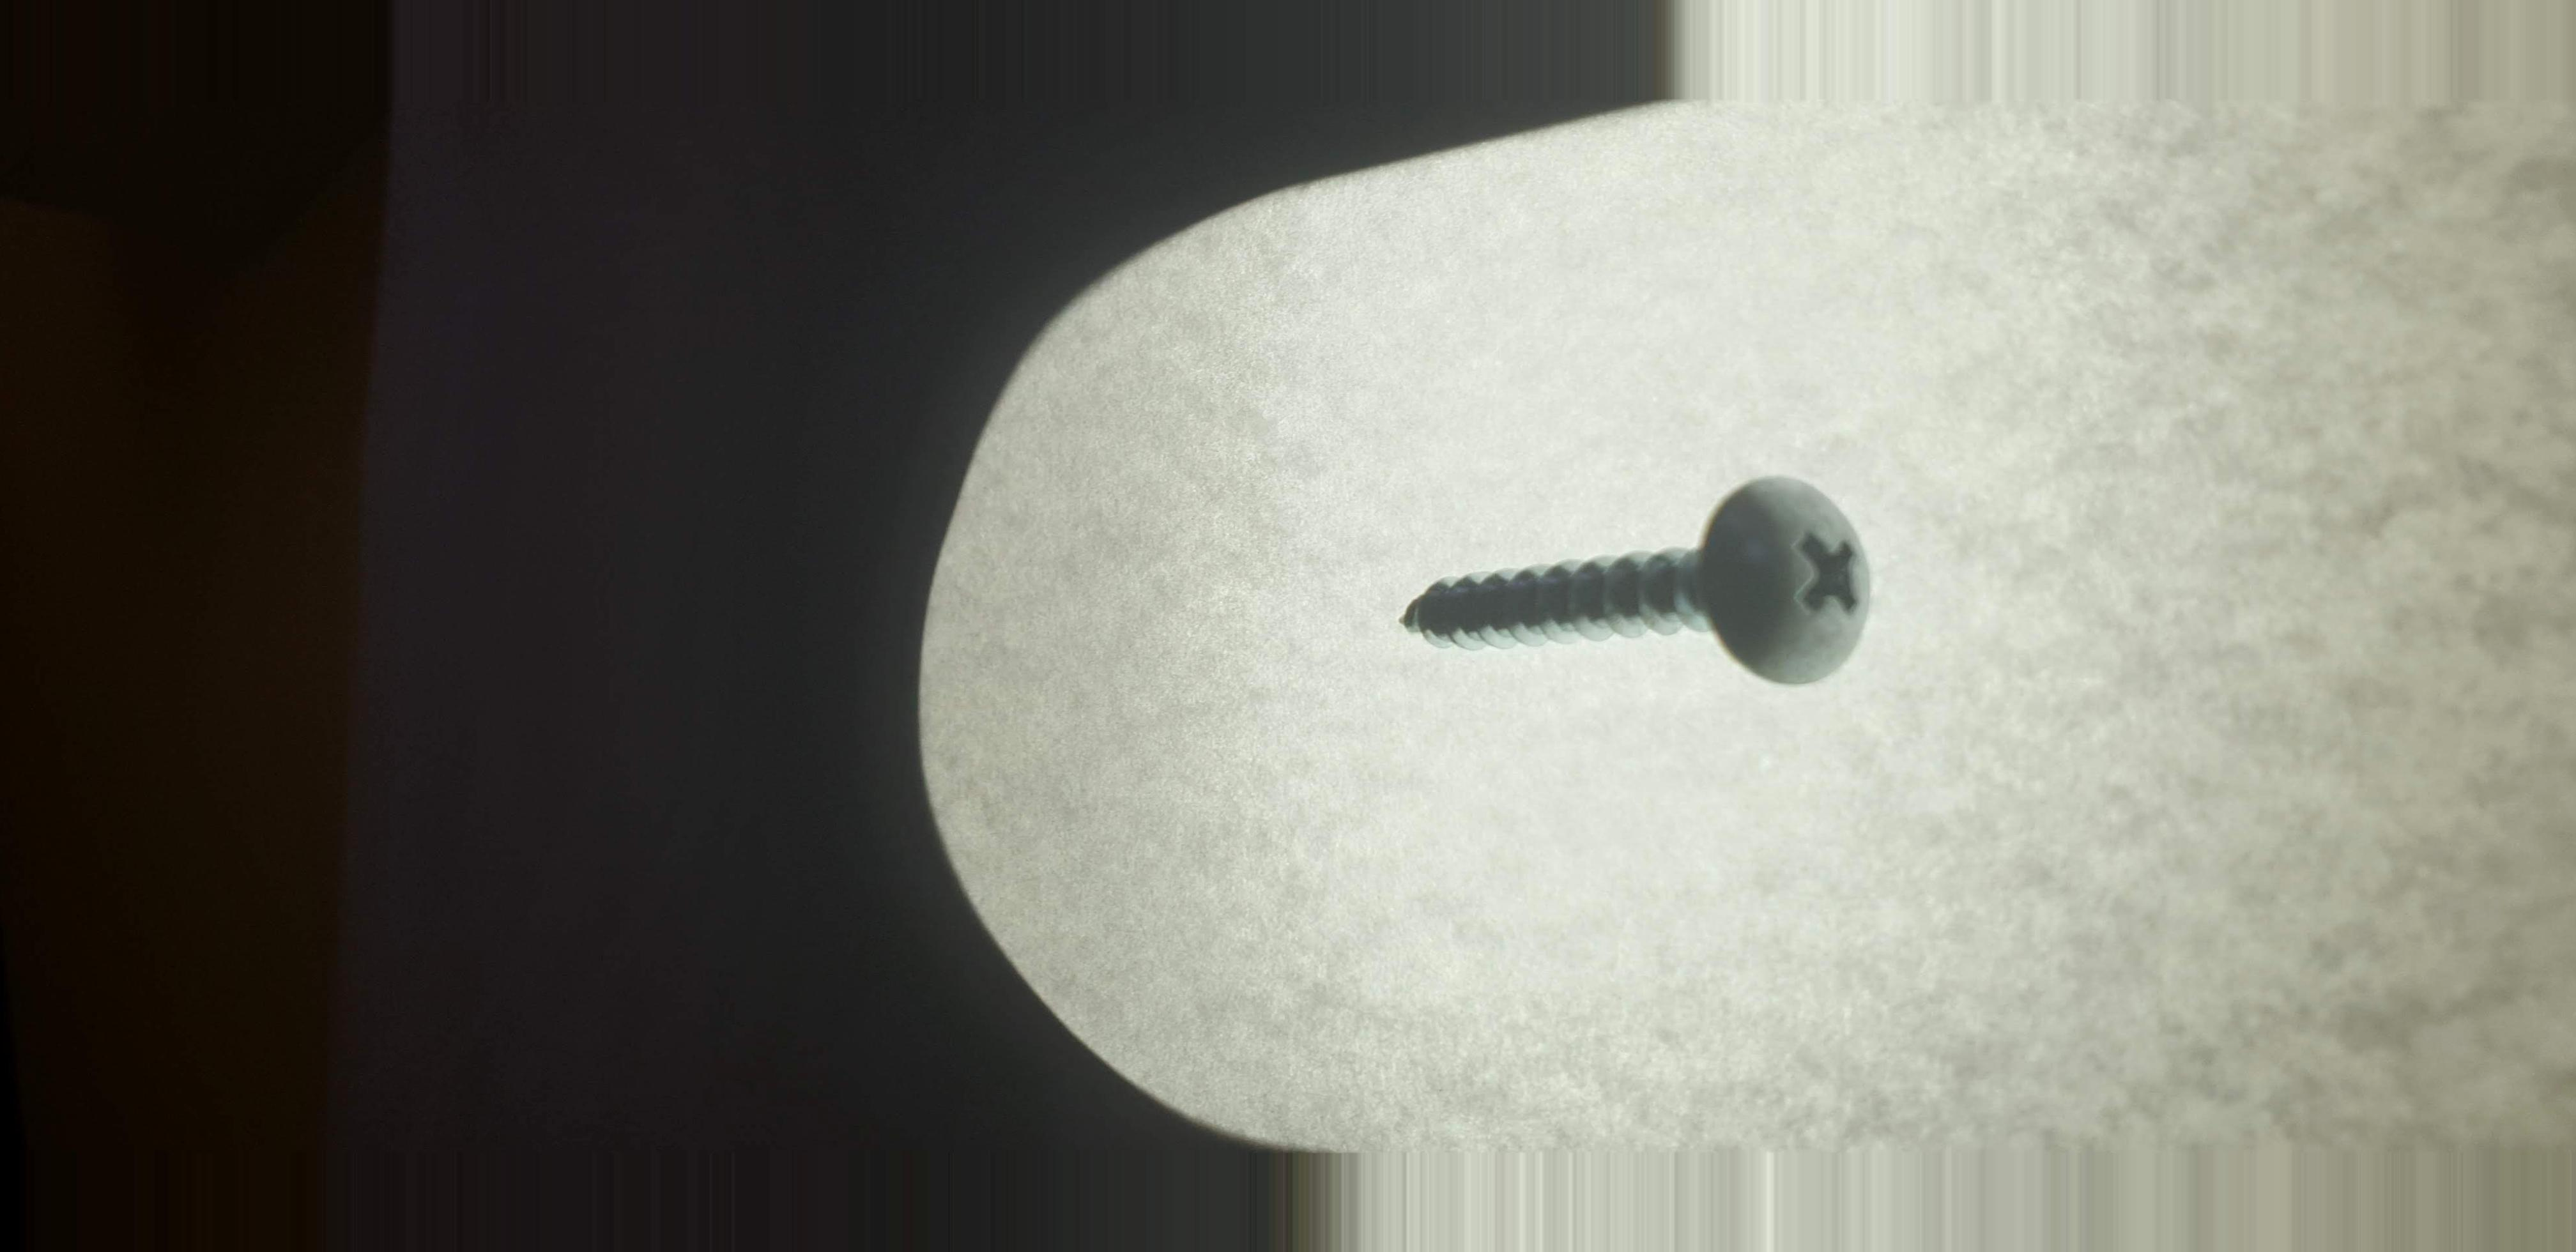S002: (1350, 430, 1963, 767)
